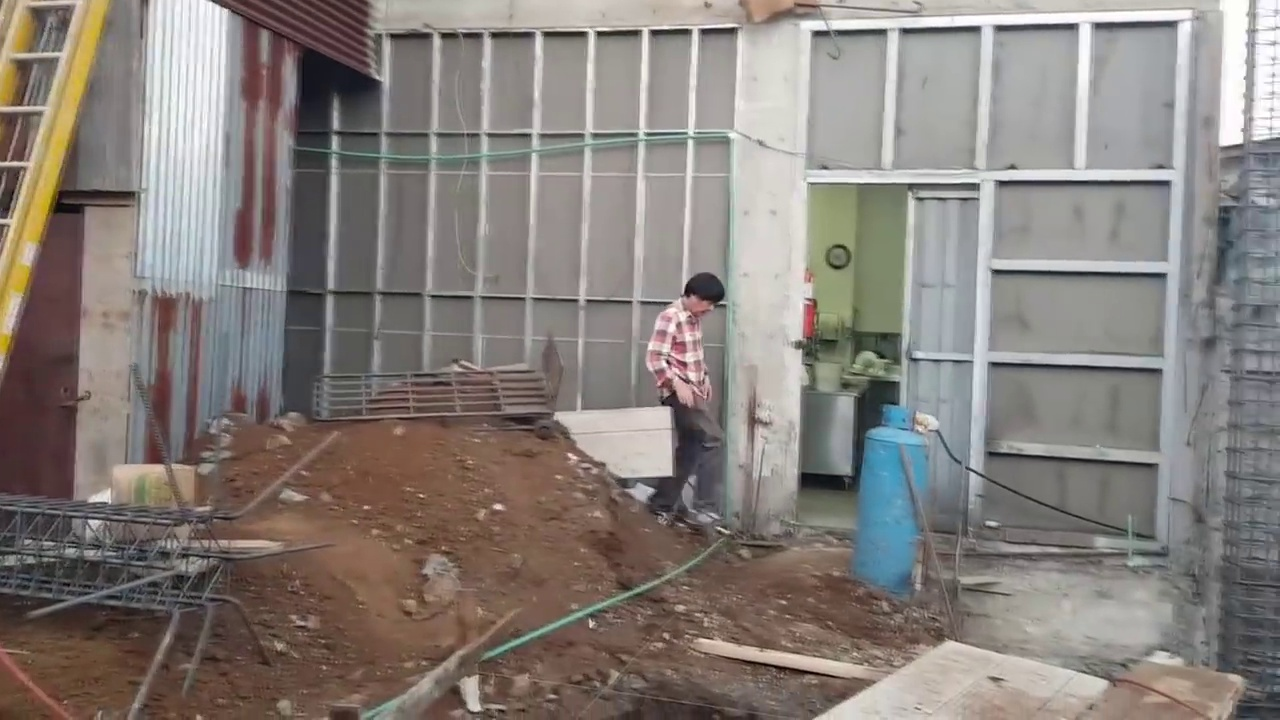helmet-off: (686, 278, 722, 322)
person: (643, 259, 733, 551)
